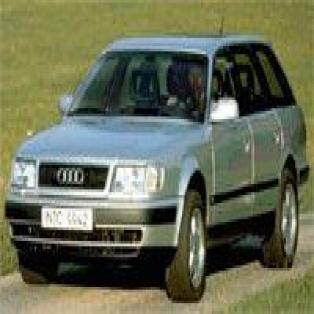Auto: (3, 5, 313, 306)
